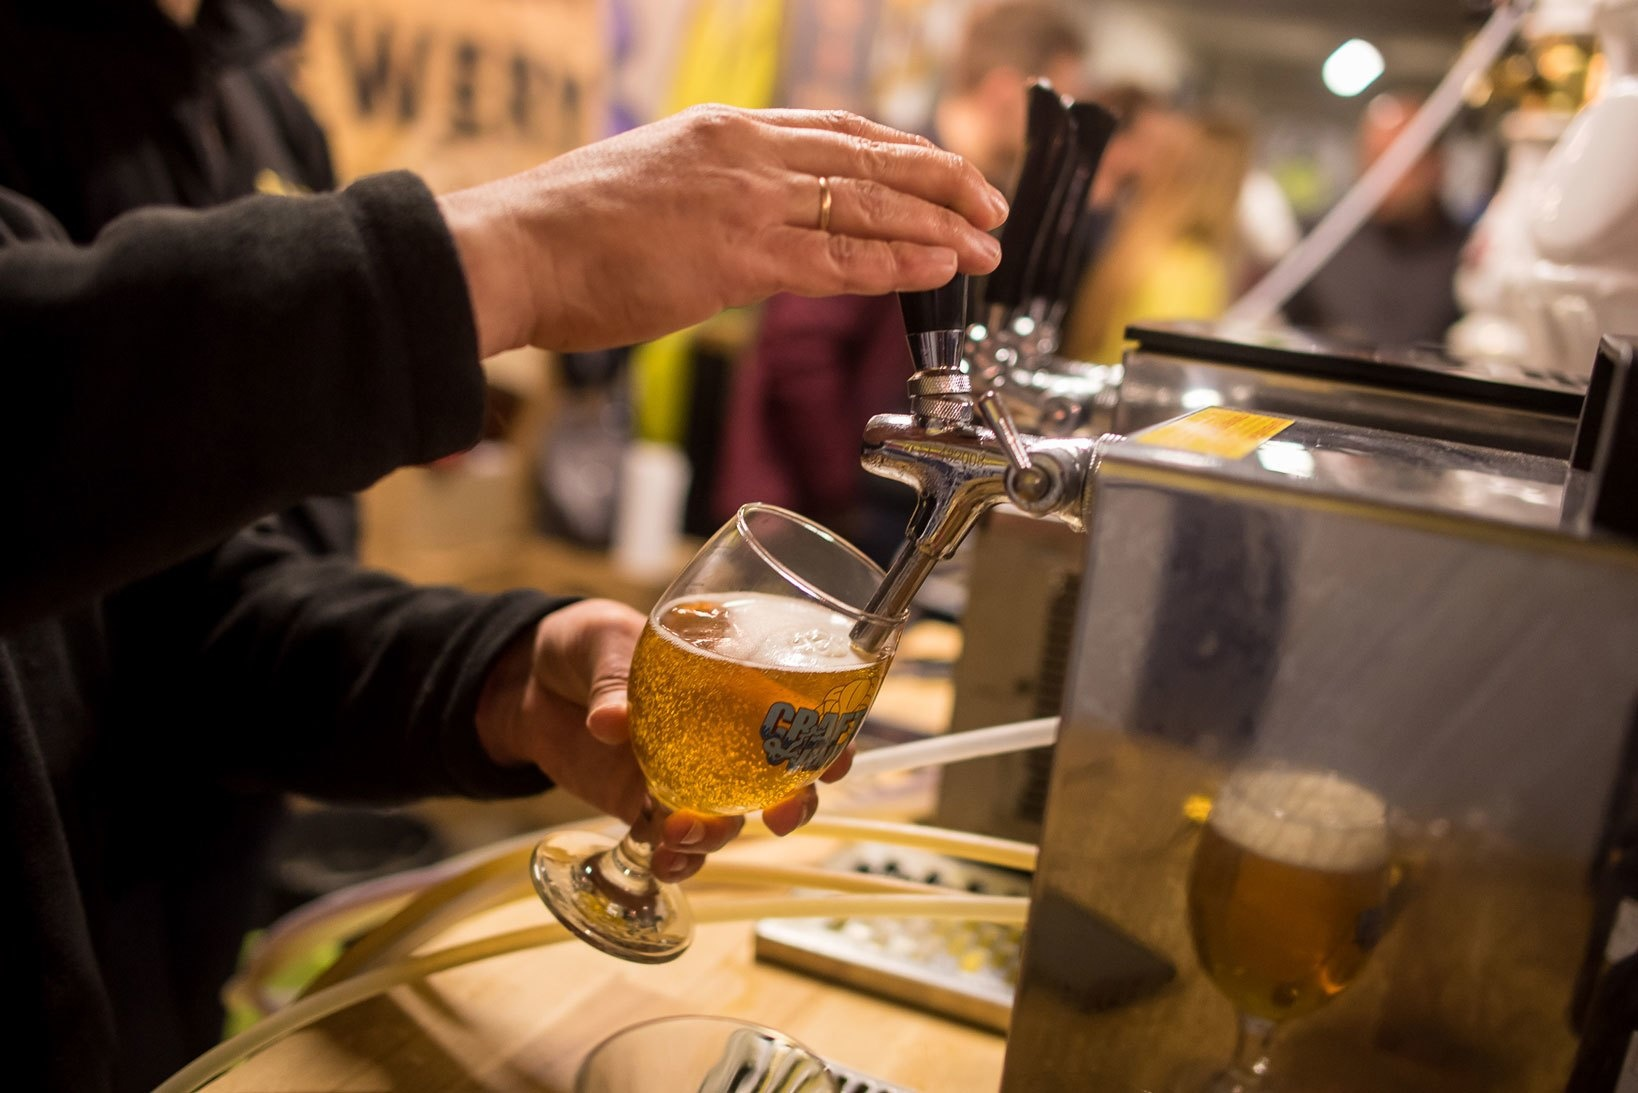glassBeer: (520, 504, 901, 934)
